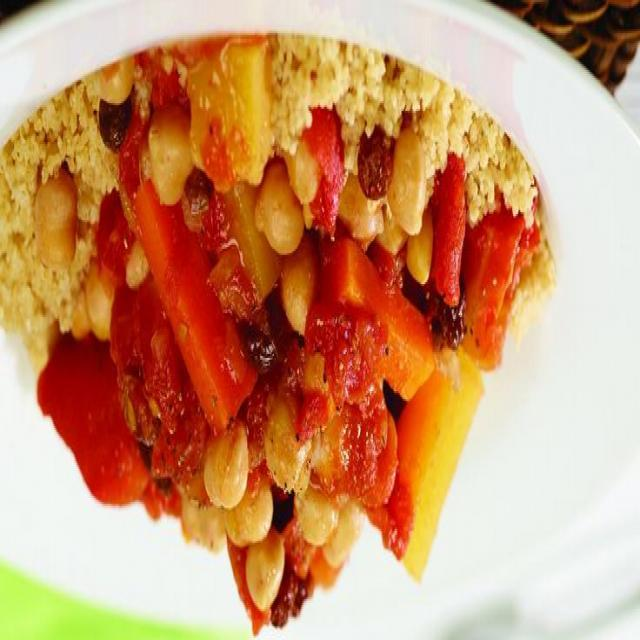Couscous: (0, 39, 556, 636)
